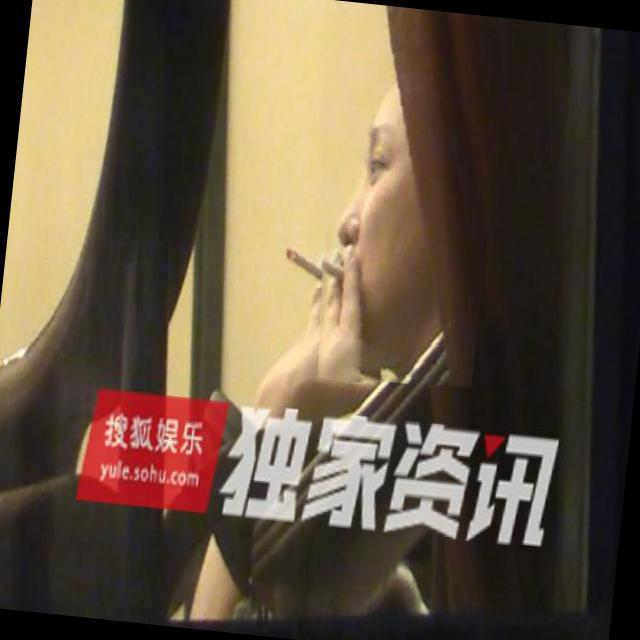cigarette: (268, 227, 344, 290)
